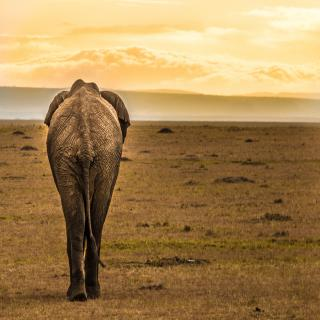Elephant: (44, 76, 131, 304)
